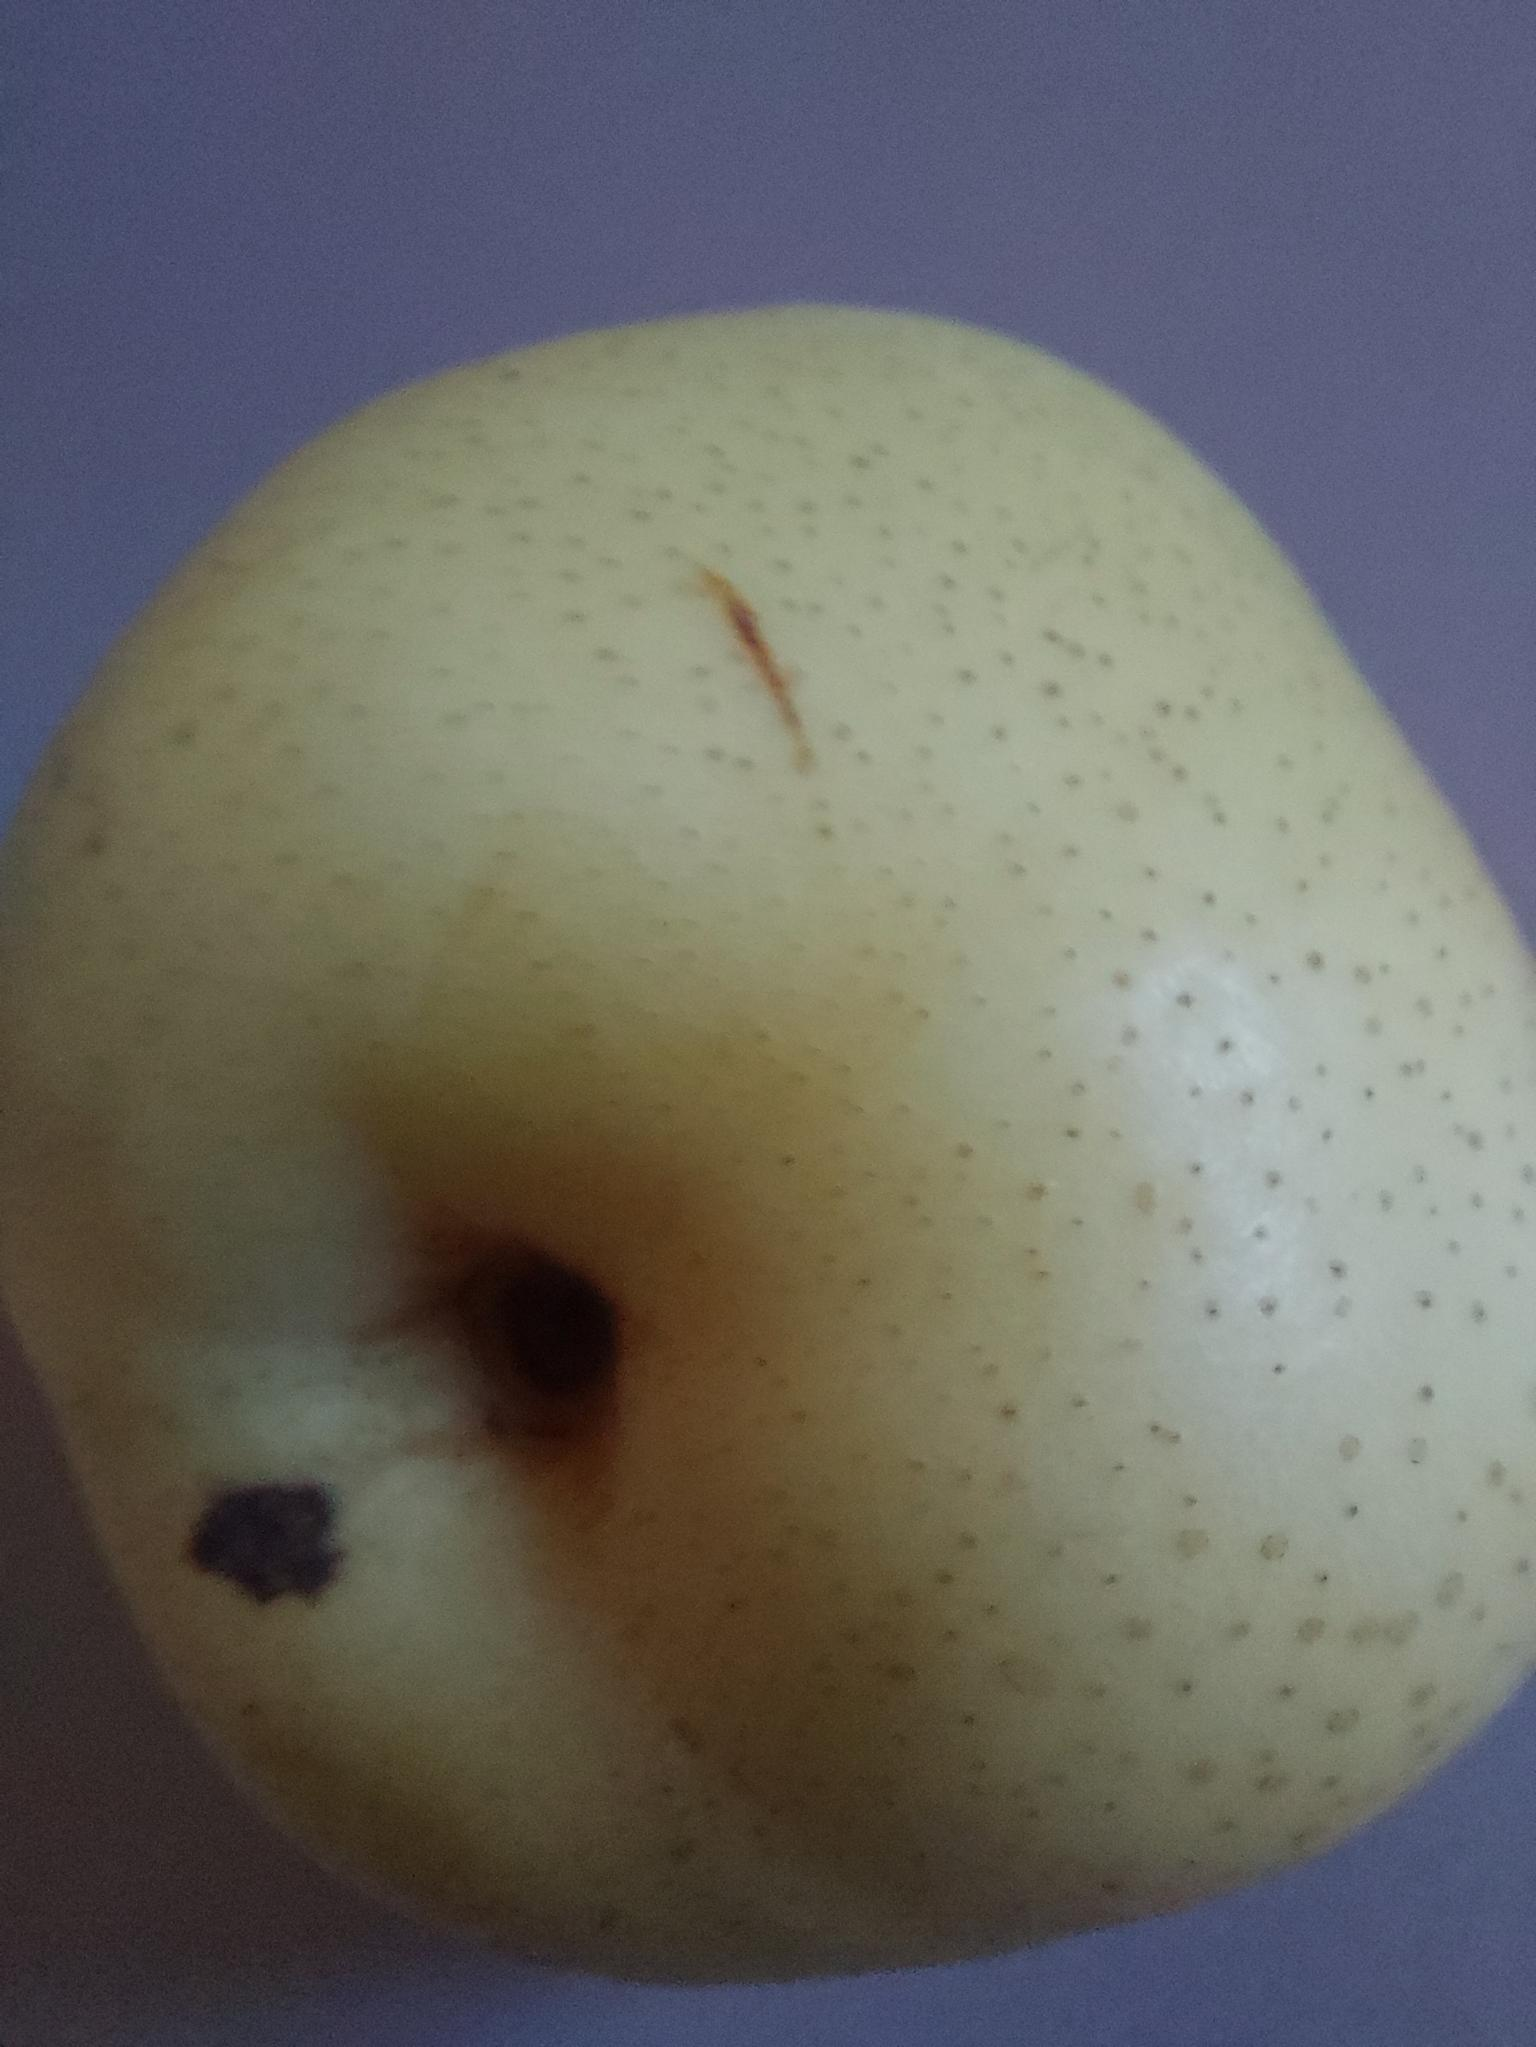Good Pear: (0, 279, 1536, 1991)
